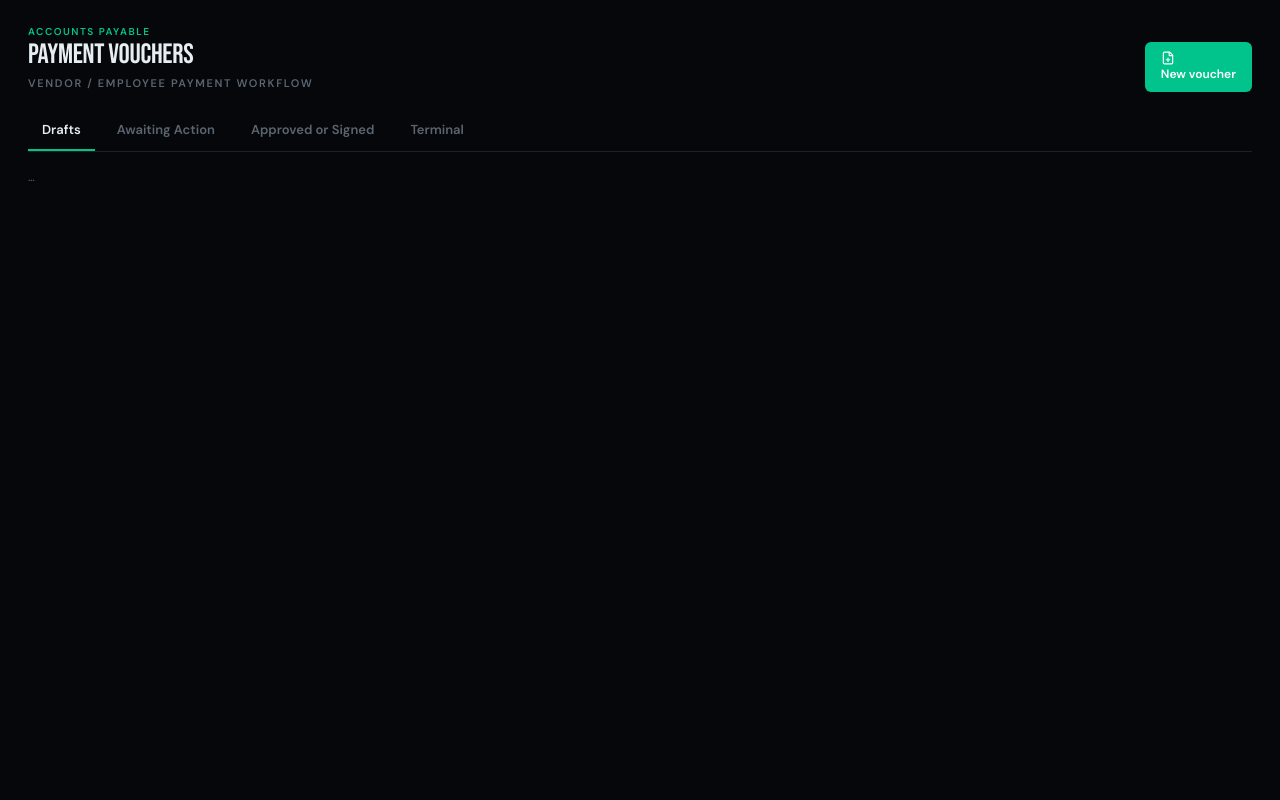
Test: PaymentVoucherScreen — AUDIT-ACC-002 › composer: HASEEB-274 warning banner appears for cheque + mandate with Σcount<2
The image size is (1280, 800).
Click the button with aria-label "Create a new payment voucher" at {"x": 1198, "y": 66}, box 1145,42 -> 1252,92
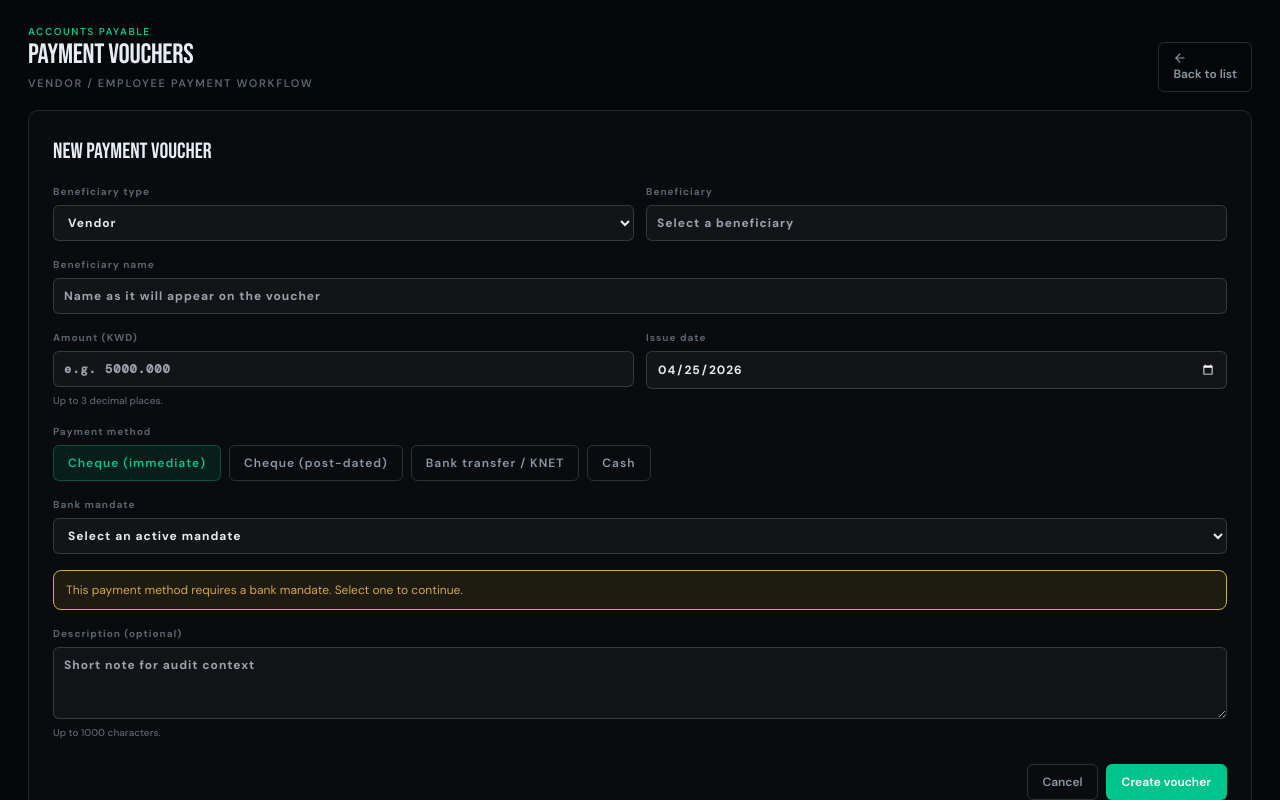
Select "Burgan Bank · ****9813" in the dropdown labelled "Bank mandate" at {"x": 640, "y": 536}, box 53,518 -> 1227,554
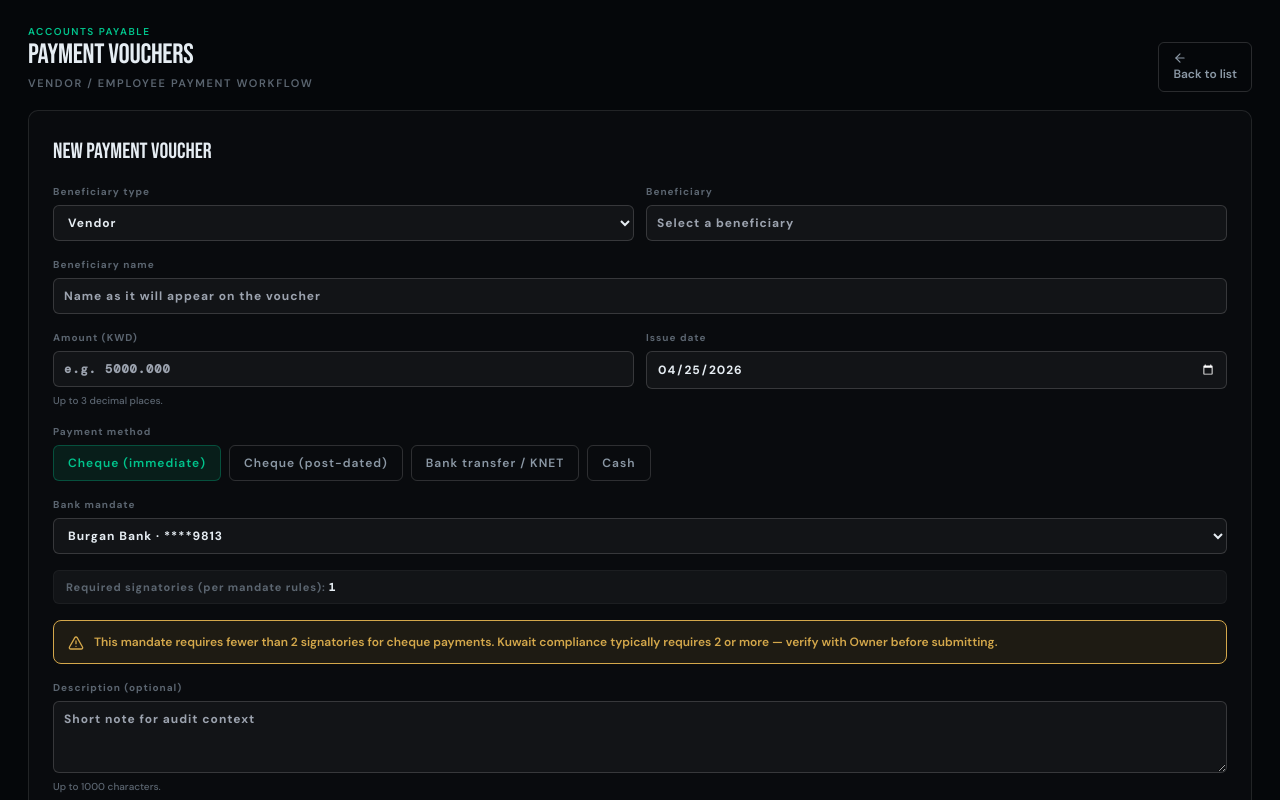
Expected: the message with test id "composer-low-signatory-warning" is shown, 53,620 -> 1227,664
